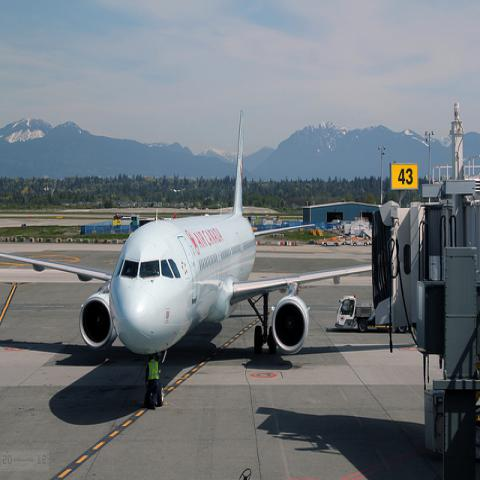truck: (334, 295, 372, 333)
